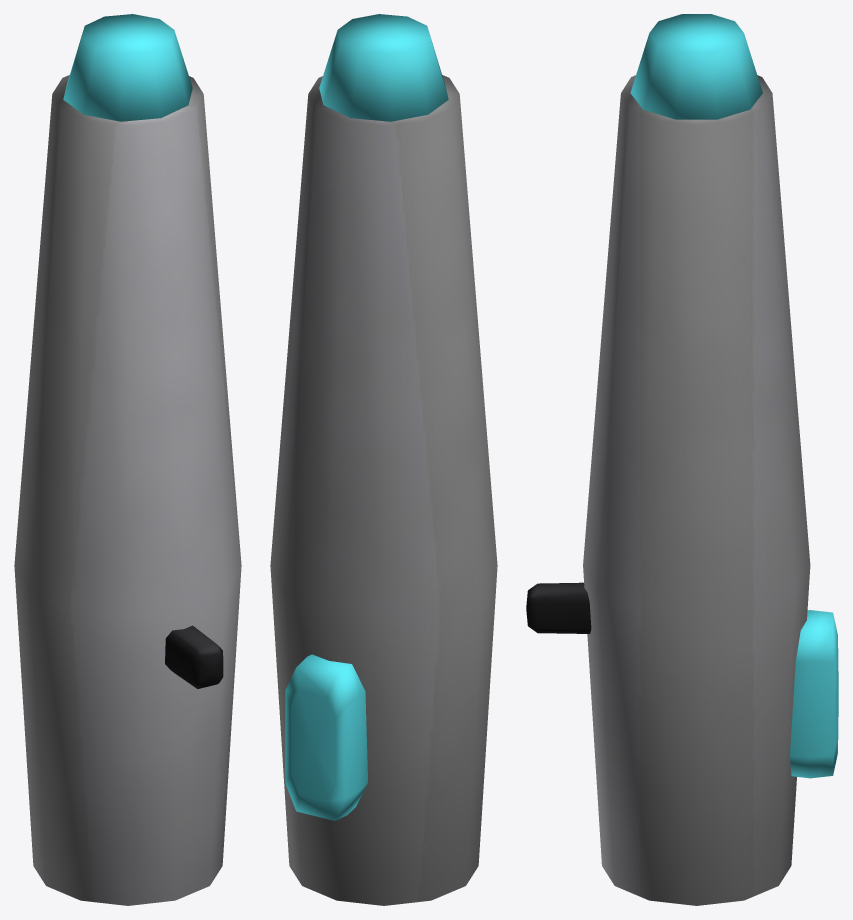
Rendered from canon-plasma.glb.
3 renders of one model, left to right at view 1: azimuth 30°, elevation 25°; view 2: azimuth 150°, elevation 25°; view 3: azimuth 270°, elevation 25°, orthographic.
Parts seen in each view (by area): view 1: canon-plasma; view 2: canon-plasma; view 3: canon-plasma.
Part boxes in pixels (x1,y1,x2,y2): canon-plasma: (14, 14, 241, 905); canon-plasma: (270, 14, 497, 905); canon-plasma: (526, 14, 838, 905).
Size of the model in its own units: 0.24 by 0.97 by 0.33.
Materials: 1 (1 with a texture image).
